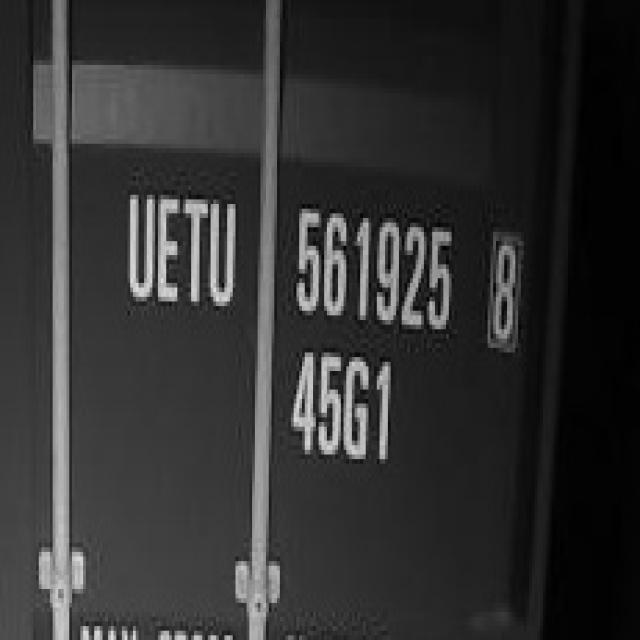dv: (480, 225, 530, 359)
owner: (119, 170, 245, 328)
serial: (292, 184, 456, 348)
size: (284, 338, 397, 482)
